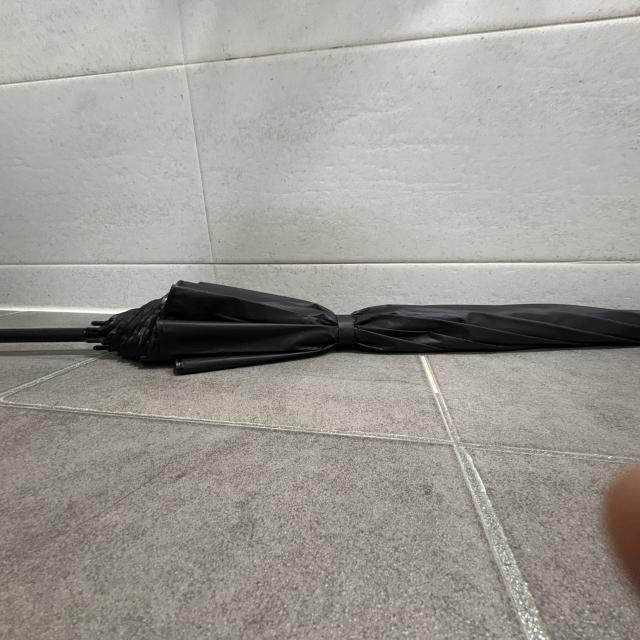umbrella: (2, 279, 640, 380)
